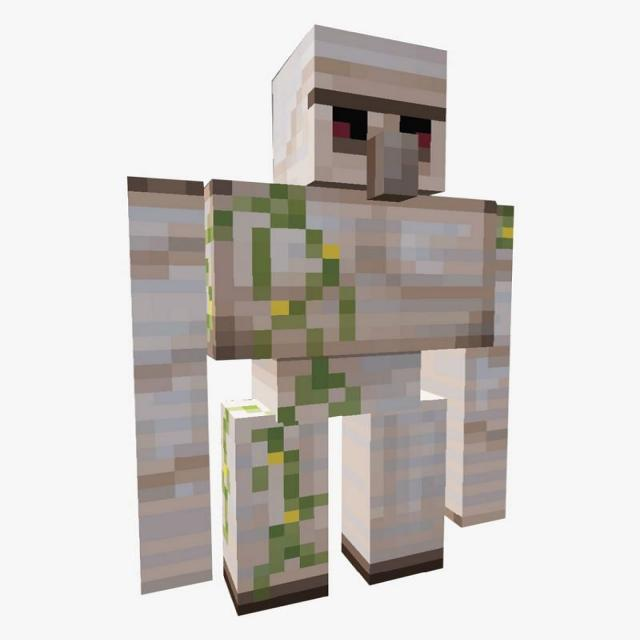Iron Golem: (118, 19, 516, 618)
